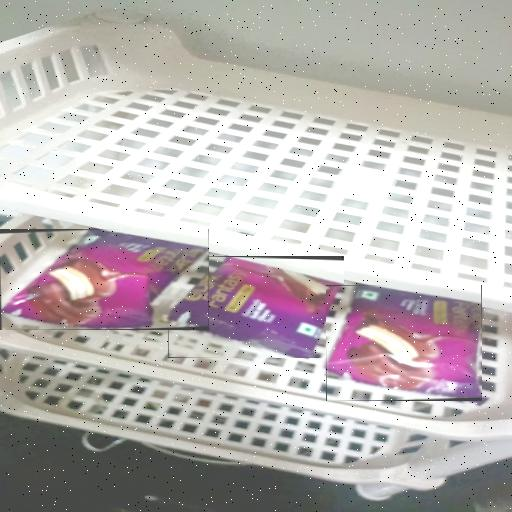Choco Pie: (0, 229, 209, 330), (326, 285, 482, 401), (168, 256, 344, 358)
